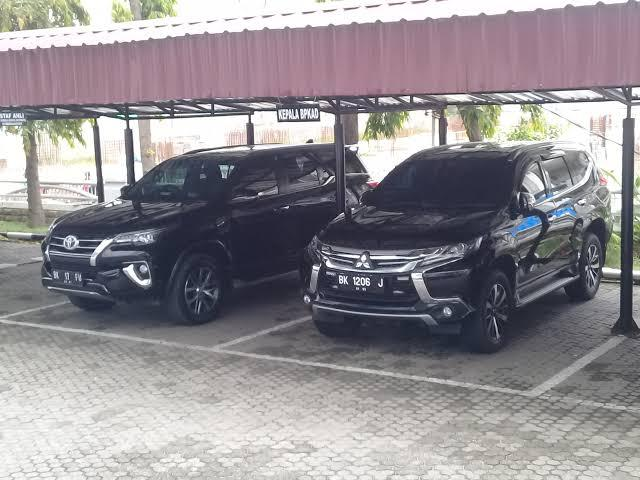plate: (336, 270, 389, 300), (50, 265, 83, 290)
